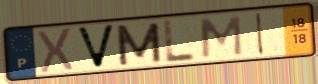I: (255, 11, 267, 57)
L: (162, 18, 199, 65)
M: (113, 21, 164, 67), (198, 14, 245, 60)
V: (73, 23, 117, 70)
X: (36, 26, 76, 75)
